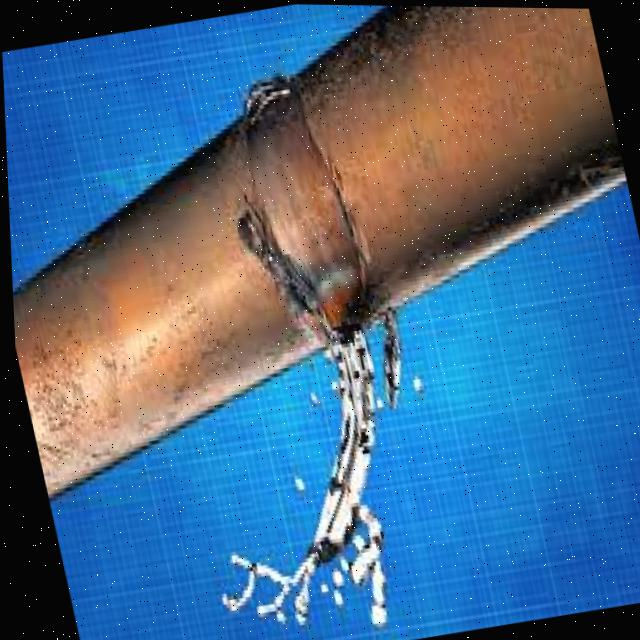corrosion: (243, 207, 459, 549)
